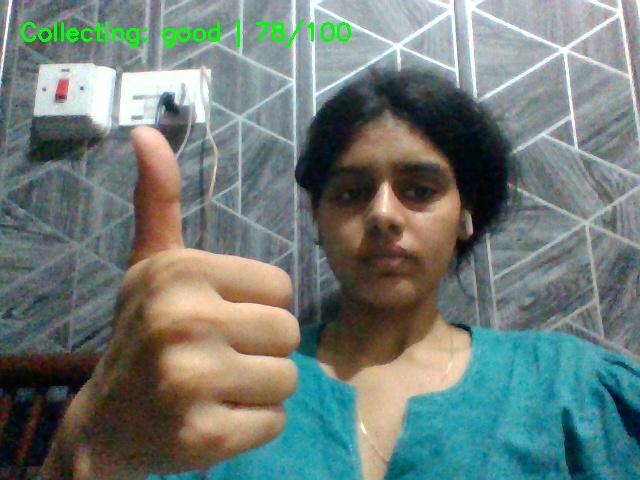good: (49, 123, 319, 465)
